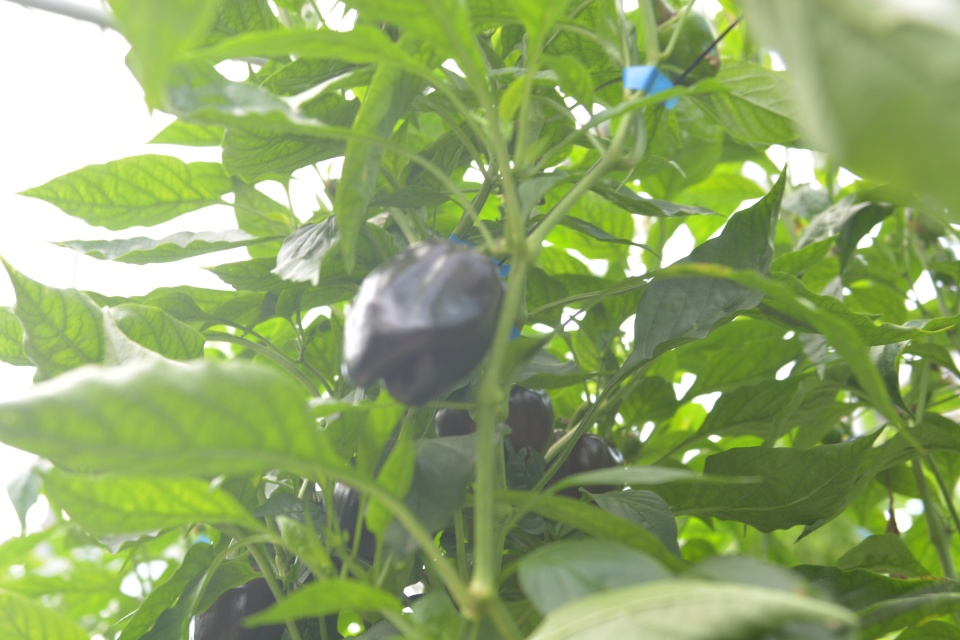fruit: (338, 237, 504, 410), (431, 379, 555, 465), (193, 564, 288, 640), (543, 428, 626, 507)
immature: (654, 3, 722, 88)
pedicle: (468, 384, 510, 426)
